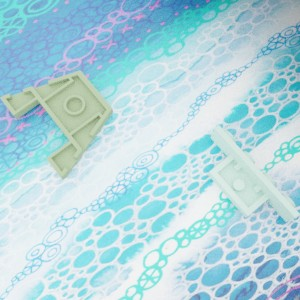lego: (0, 70, 113, 180), (207, 124, 299, 222)
